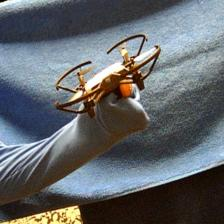drone: (53, 31, 162, 115)
